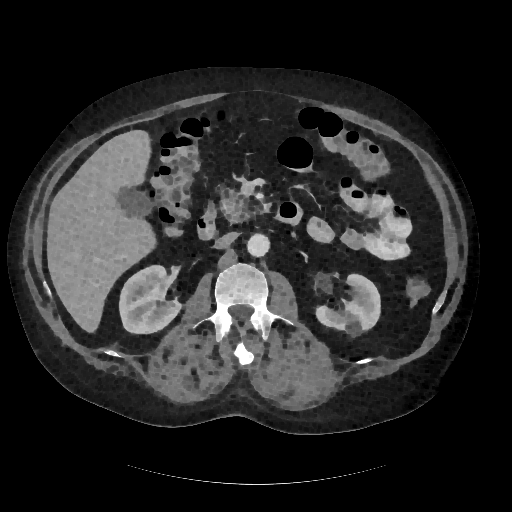Lesion: (345, 318, 363, 340)
